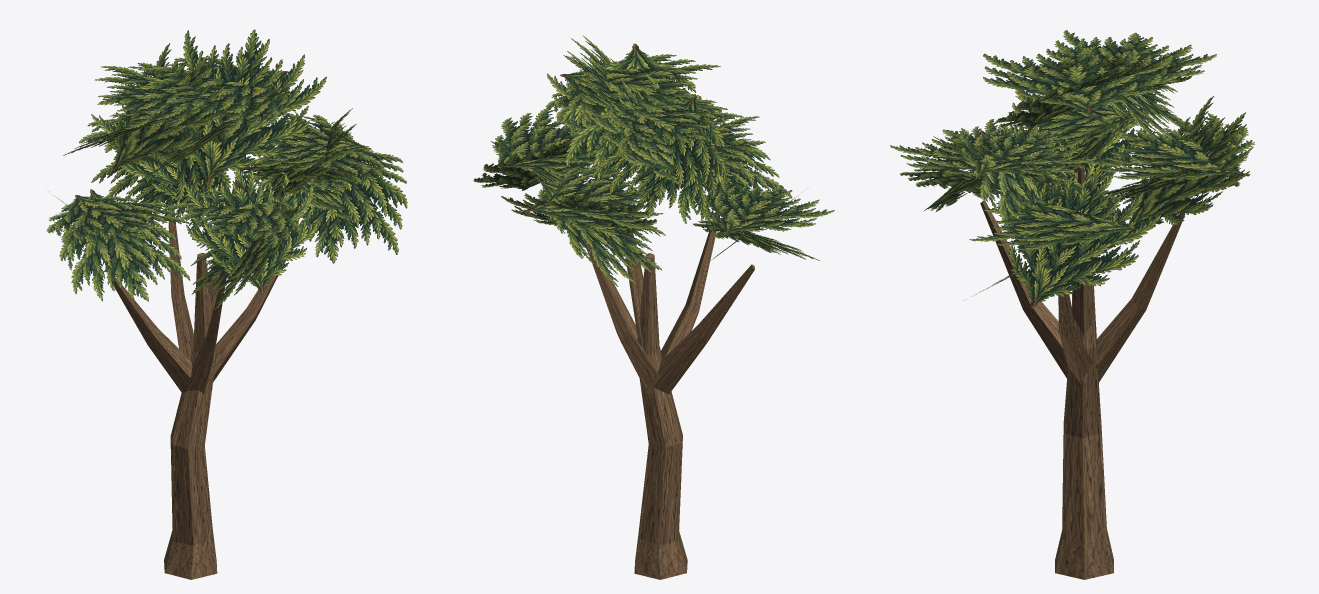
The model's file is Quercia_03_Slanciata.obj.
3 renders of one model, left to right at view 1: azimuth 30°, elevation 25°; view 2: azimuth 150°, elevation 25°; view 3: azimuth 270°, elevation 25°, orthographic. The views are drawn at different scales.
Visible parts, largest first — view 1: Quercia_03_Slanciata; view 2: Quercia_03_Slanciata; view 3: Quercia_03_Slanciata.
Part boxes in pixels (x1=…): Quercia_03_Slanciata: x1=46, y1=29, x2=407, y2=579; Quercia_03_Slanciata: x1=473, y1=36, x2=834, y2=579; Quercia_03_Slanciata: x1=890, y1=30, x2=1254, y2=579.
Size of the model in its own units: 5.72 by 7.61 by 5.39.
